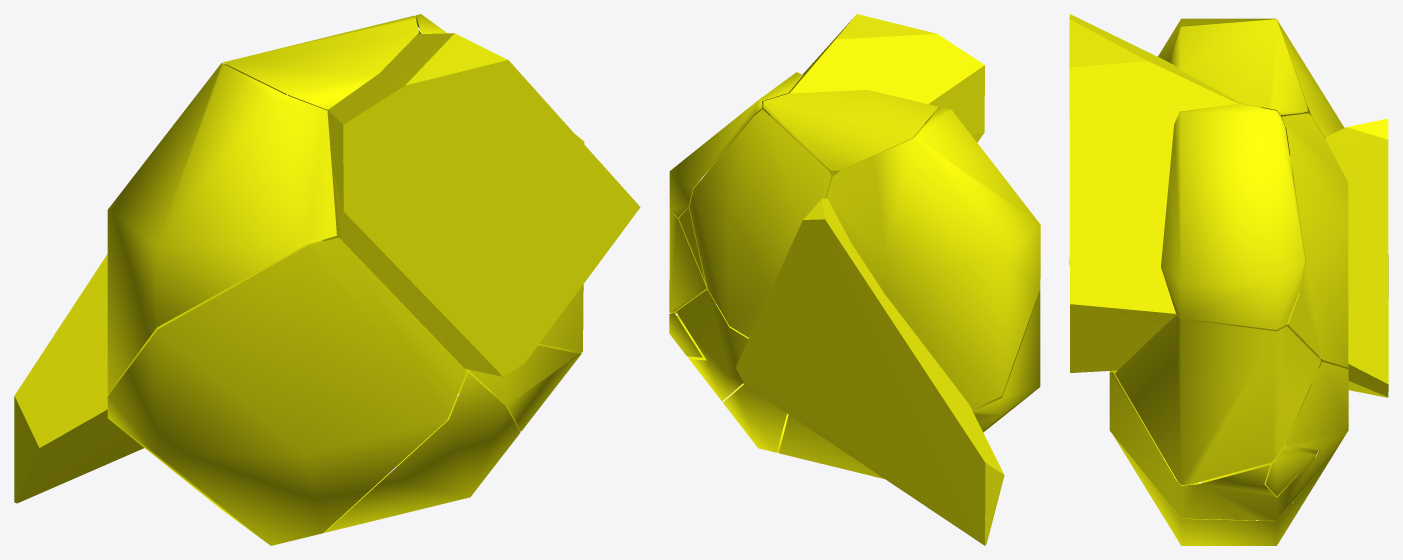
File: cubie20pieces.fbx
3 renders of one model, left to right at view 1: azimuth 30°, elevation 25°; view 2: azimuth 150°, elevation 25°; view 3: azimuth 270°, elevation 25°, orthographic. The views are drawn at different scales.
Parts seen in each view (by area): view 1: Cubie_cell.004, Cubie_cell.003, Cubie_cell.008, Cubie_cell.011, Cubie_cell, Cubie_cell.013, Cubie_cell.005, Cubie_cell.007; view 2: Cubie_cell.011, Cubie_cell.008, Cubie_cell.012, Cubie_cell.004, Cubie_cell.013, Cubie_cell.005, Cubie_cell.002, Cubie_cell.003, Cubie_cell, Cubie_cell.007, Cubie_cell.010, Cubie_cell.006; view 3: Cubie_cell.004, Cubie_cell.002, Cubie_cell.007, Cubie_cell.005, Cubie_cell.011, Cubie_cell.012, Cubie_cell.013, Cubie_cell, Cubie_cell.008, Cubie_cell.006, Cubie_cell.010.
Boxes of the visible parts, x1,y1,x2,y2 form: Cubie_cell.004: (312, 33, 640, 376); Cubie_cell.003: (107, 237, 466, 545); Cubie_cell.008: (107, 63, 336, 394); Cubie_cell.011: (14, 240, 323, 503); Cubie_cell: (324, 372, 520, 532); Cubie_cell.013: (223, 15, 418, 109); Cubie_cell.005: (458, 343, 581, 431); Cubie_cell.007: (539, 284, 583, 352); Cubie_cell.011: (735, 198, 1004, 545); Cubie_cell.008: (827, 107, 1040, 408); Cubie_cell.012: (689, 109, 831, 337); Cubie_cell.004: (679, 14, 984, 284); Cubie_cell.013: (763, 90, 938, 170); Cubie_cell.005: (676, 289, 748, 401); Cubie_cell.002: (669, 72, 802, 217); Cubie_cell.003: (969, 289, 1040, 432); Cubie_cell: (723, 383, 788, 452); Cubie_cell.007: (669, 180, 716, 313); Cubie_cell.010: (779, 415, 884, 478); Cubie_cell.006: (669, 313, 702, 357); Cubie_cell.004: (1069, 14, 1321, 372); Cubie_cell.002: (1161, 103, 1305, 329); Cubie_cell.007: (1115, 315, 1321, 484); Cubie_cell.005: (1109, 361, 1348, 520); Cubie_cell.011: (1289, 118, 1388, 397); Cubie_cell.012: (1281, 113, 1348, 367); Cubie_cell.013: (1170, 19, 1307, 114); Cubie_cell: (1112, 434, 1332, 545); Cubie_cell.008: (1158, 18, 1344, 155); Cubie_cell.006: (1266, 449, 1316, 495); Cubie_cell.010: (1200, 383, 1318, 521).
Bounding box in the file's own units: 65.04 × 65.02 × 40.1.
